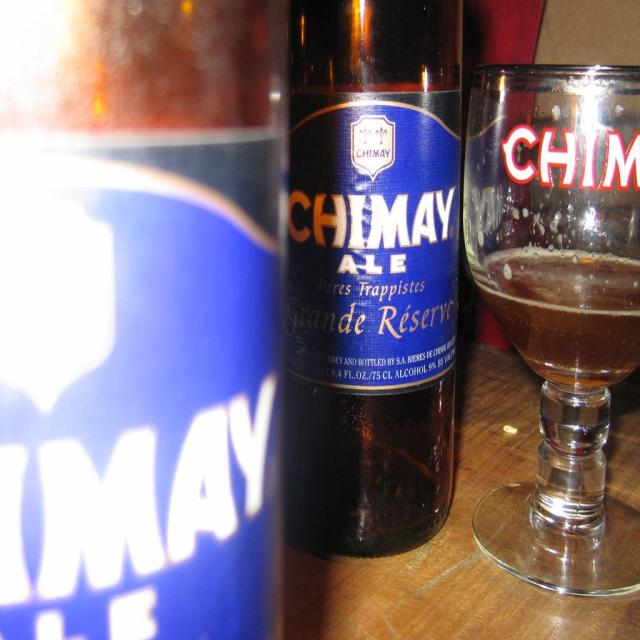chimay: (284, 102, 464, 391), (500, 119, 640, 200)
